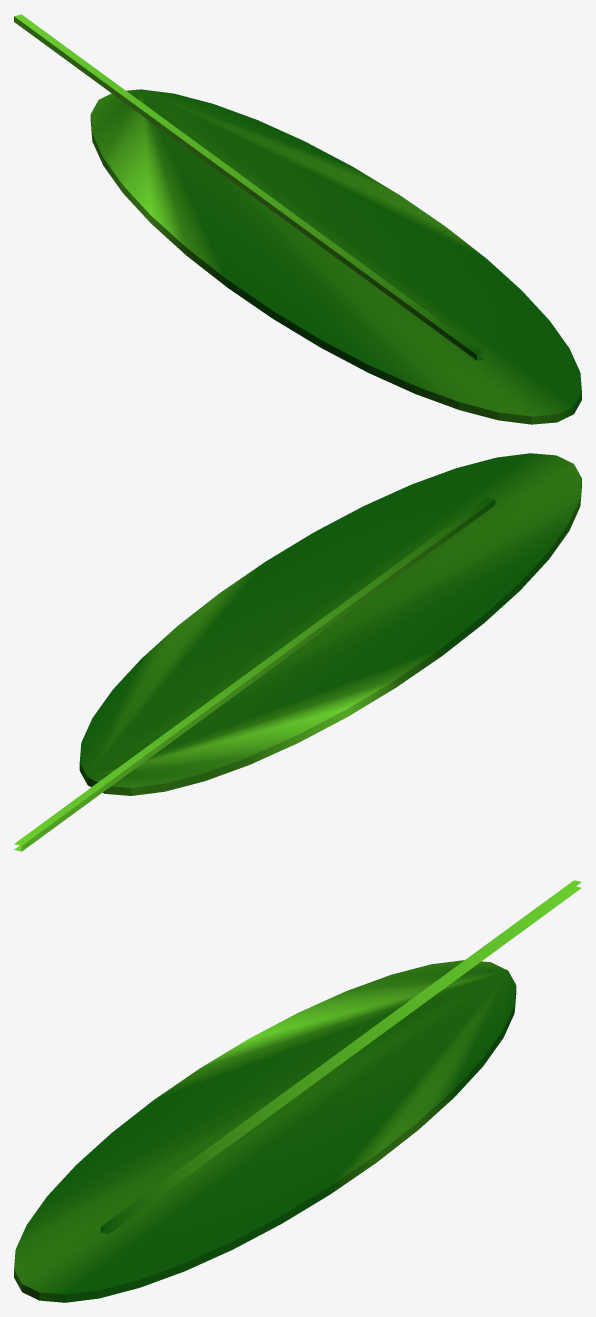
Rendered from hoja 1.fbx.
3 views of the same model, one above another, from view 1: azimuth 30°, elevation 25°; view 2: azimuth 150°, elevation 25°; view 3: azimuth 330°, elevation 25° (orthographic). The views are drawn at different scales.
Parts seen in each view (by area): view 1: Esfera.003; view 2: Esfera.003; view 3: Esfera.003.
Boxes of the visible parts, x1=… form: Esfera.003: x1=14, y1=14, x2=581, y2=424; Esfera.003: x1=14, y1=453, x2=581, y2=851; Esfera.003: x1=14, y1=880, x2=581, y2=1302.
Size of the model in its own units: 120 by 9.78 by 507.
